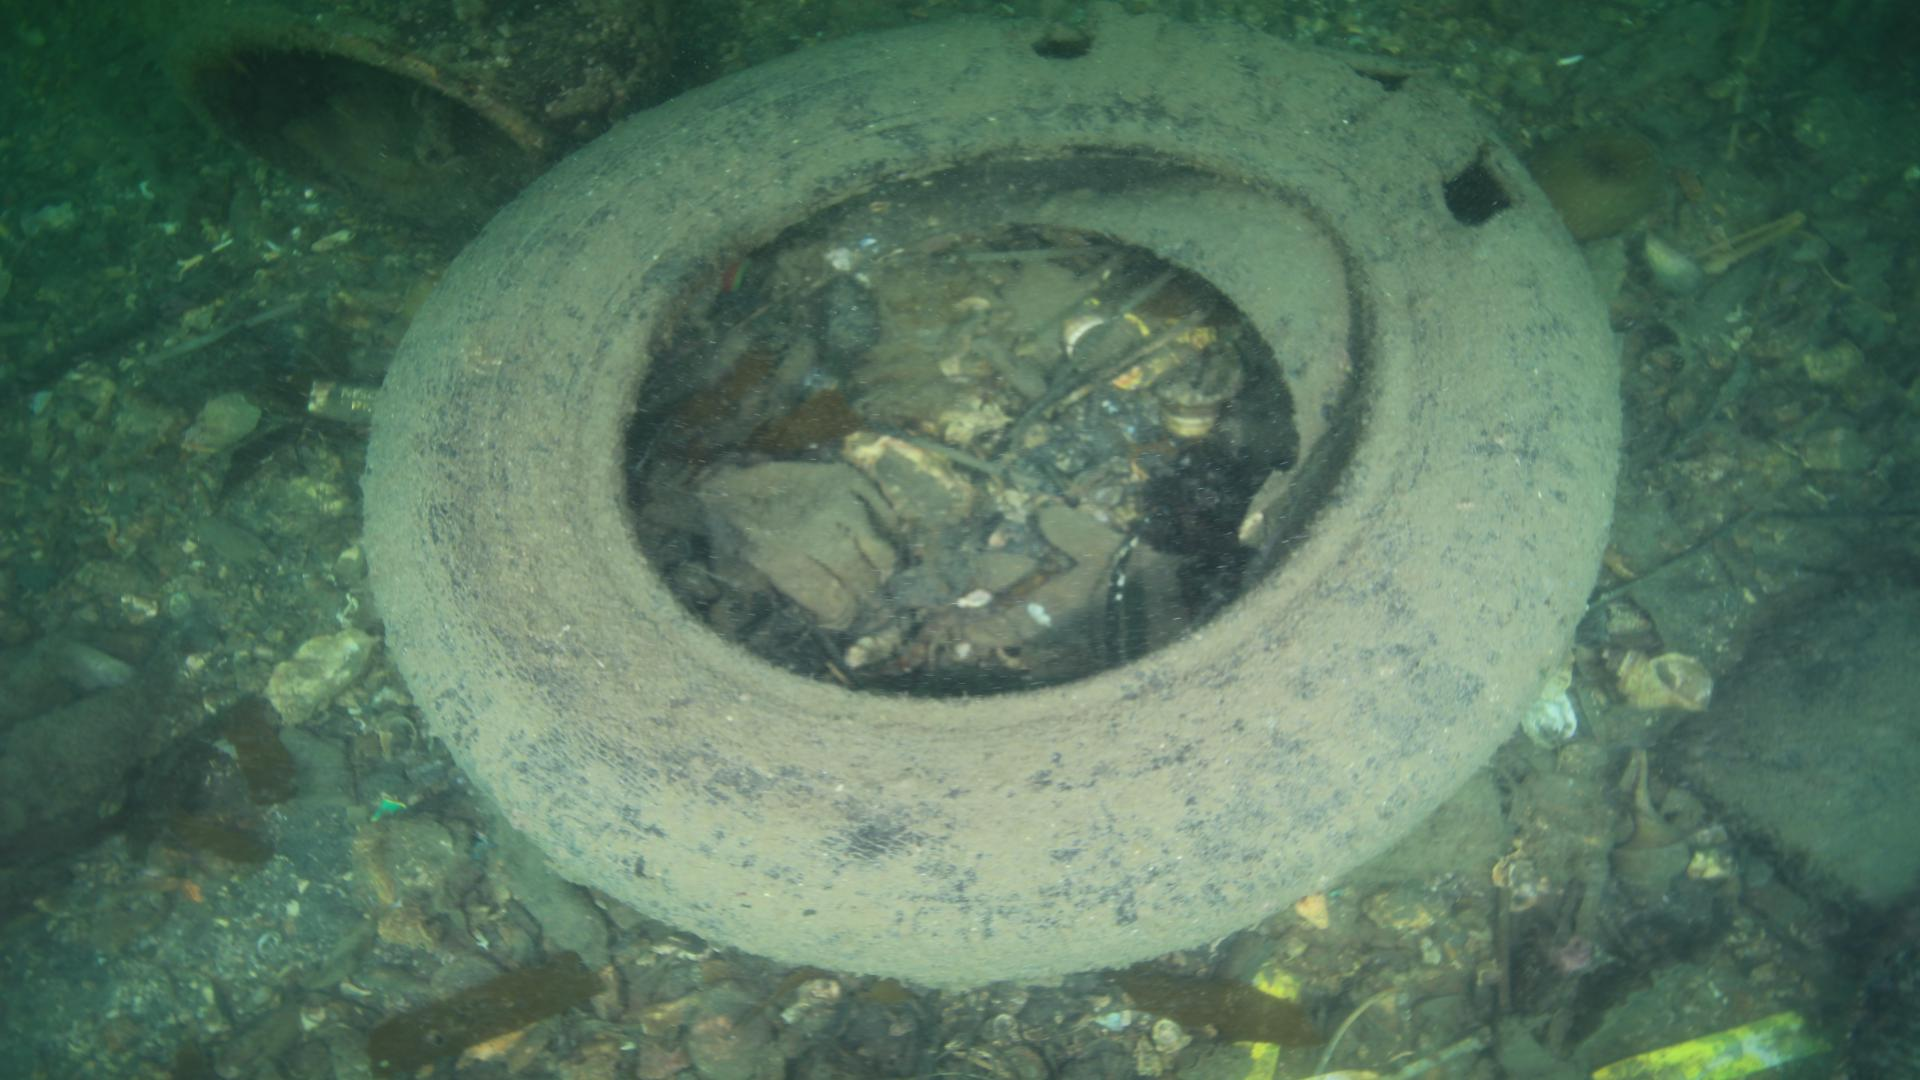tire: (360, 16, 1619, 986)
